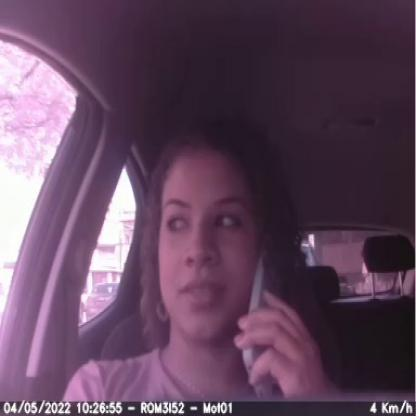phone: (235, 240, 296, 400)
